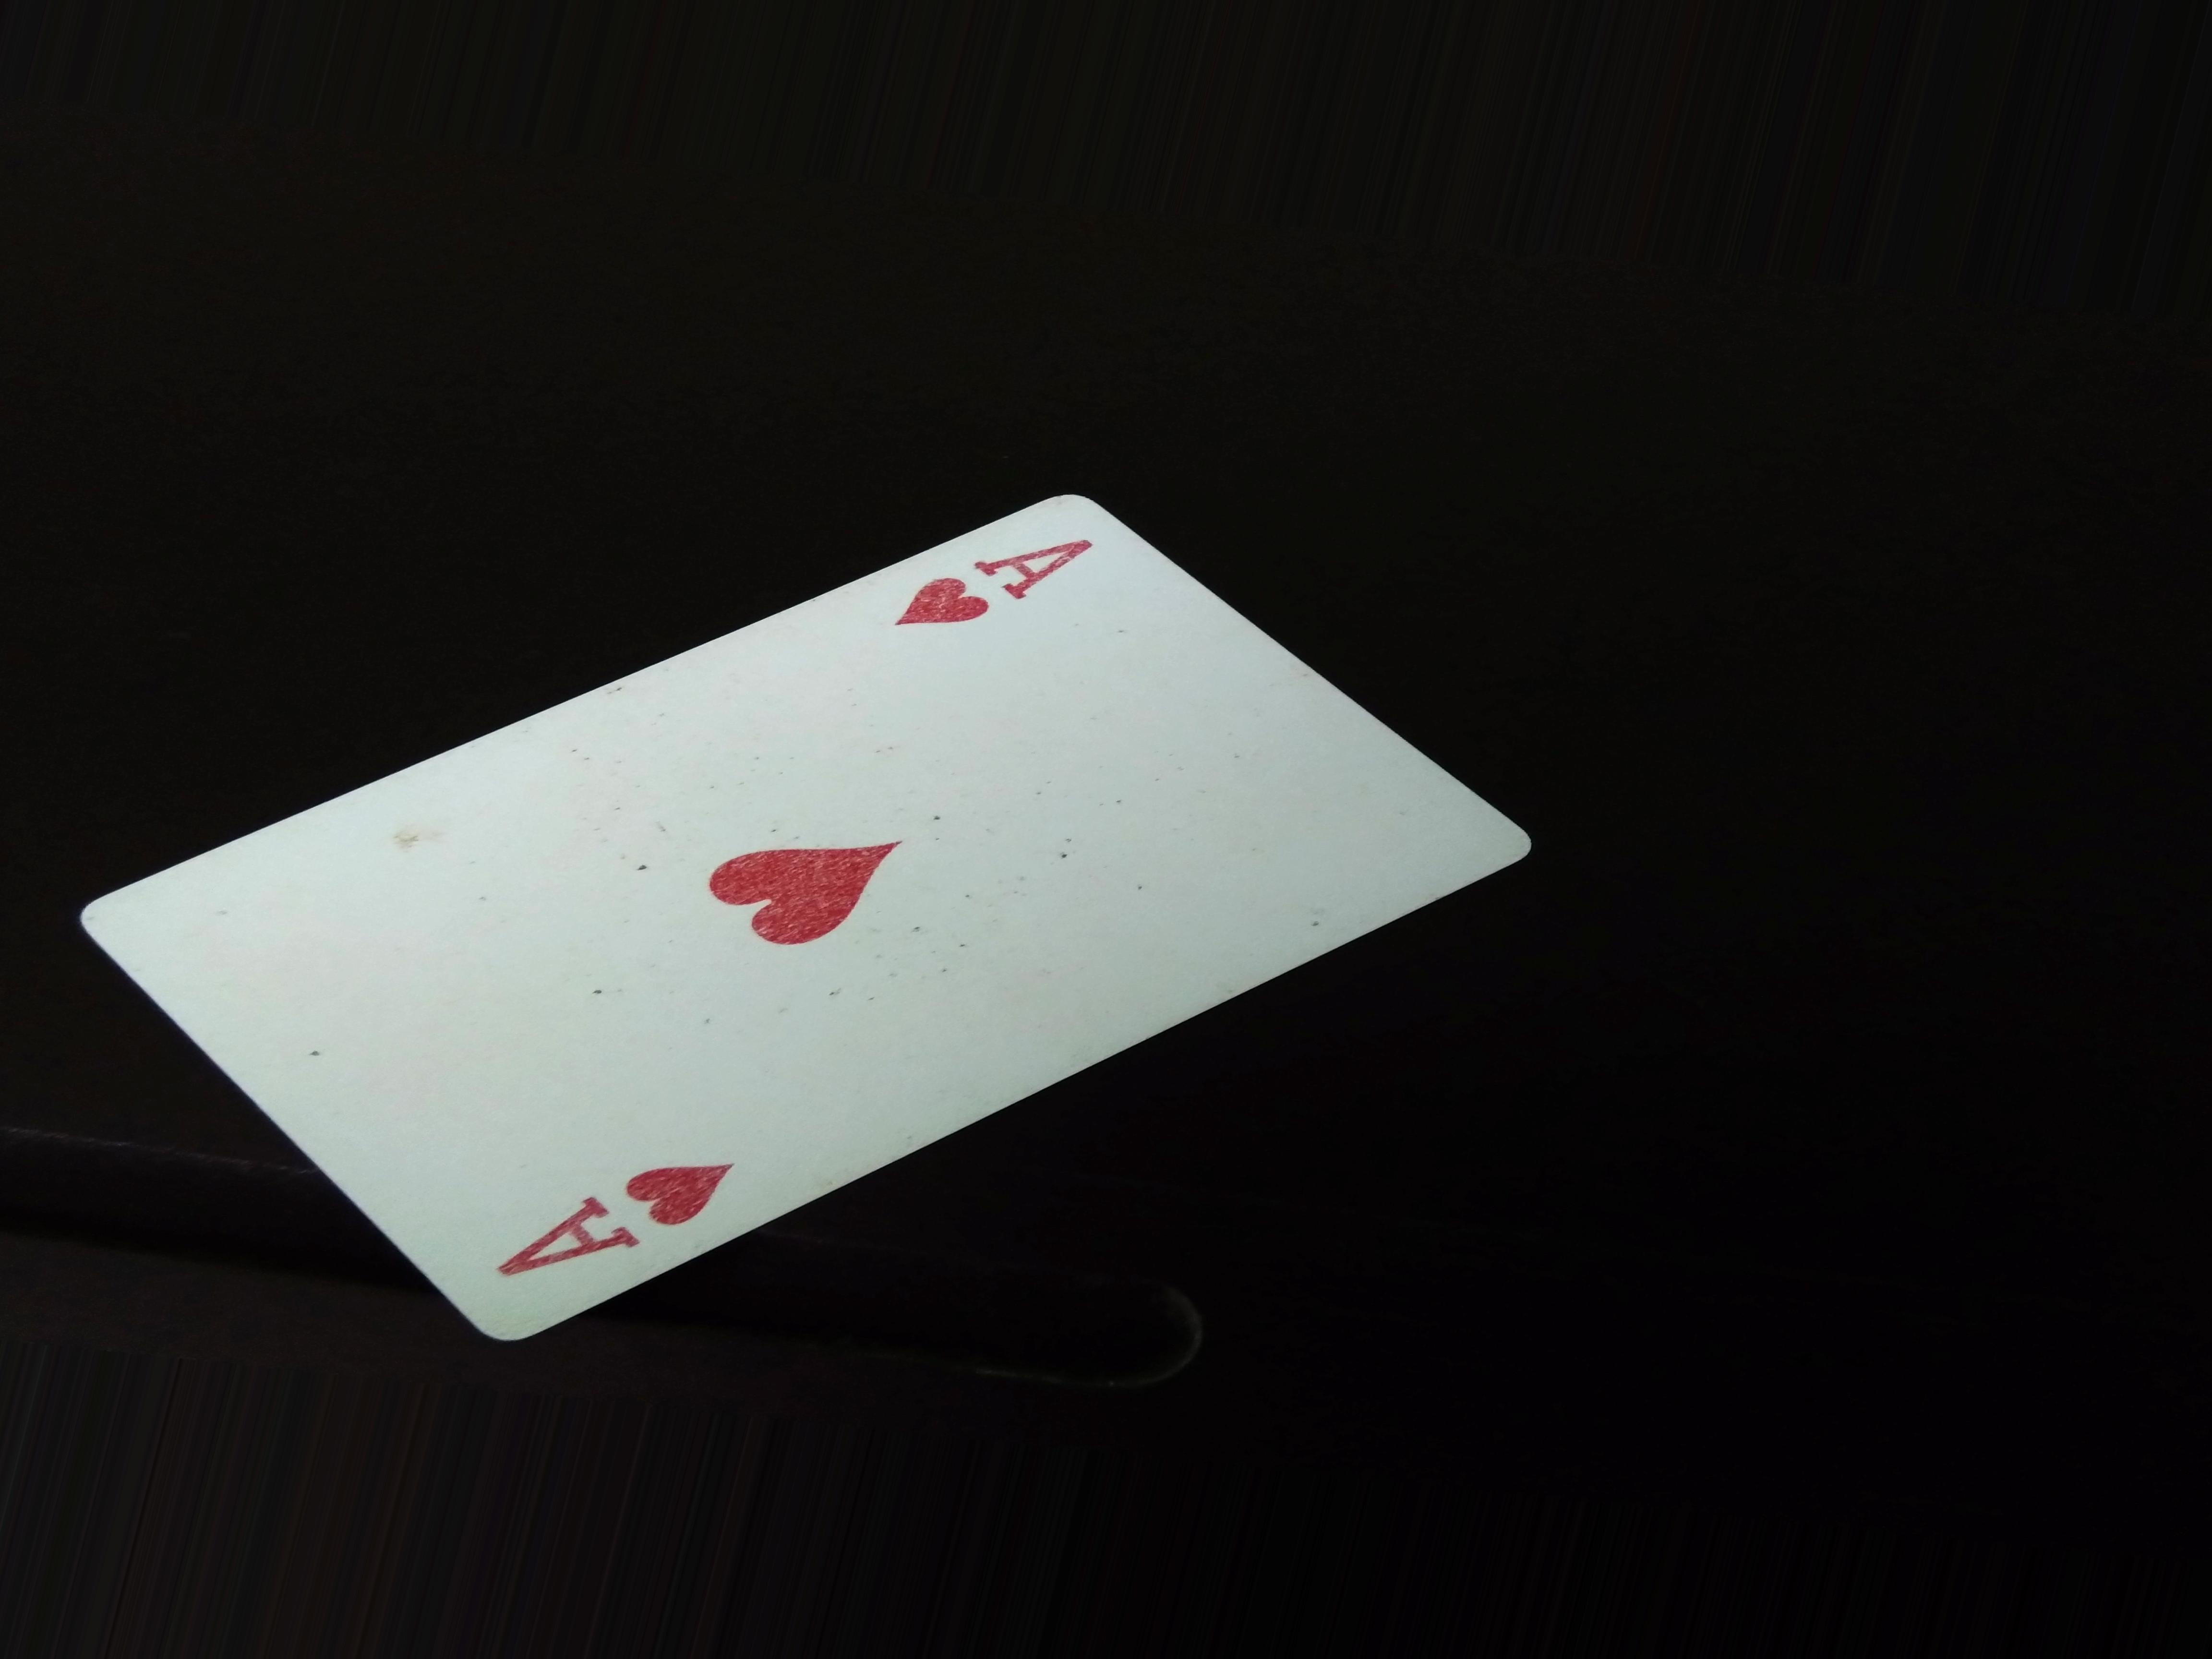AH: (472, 1138, 742, 1290)
